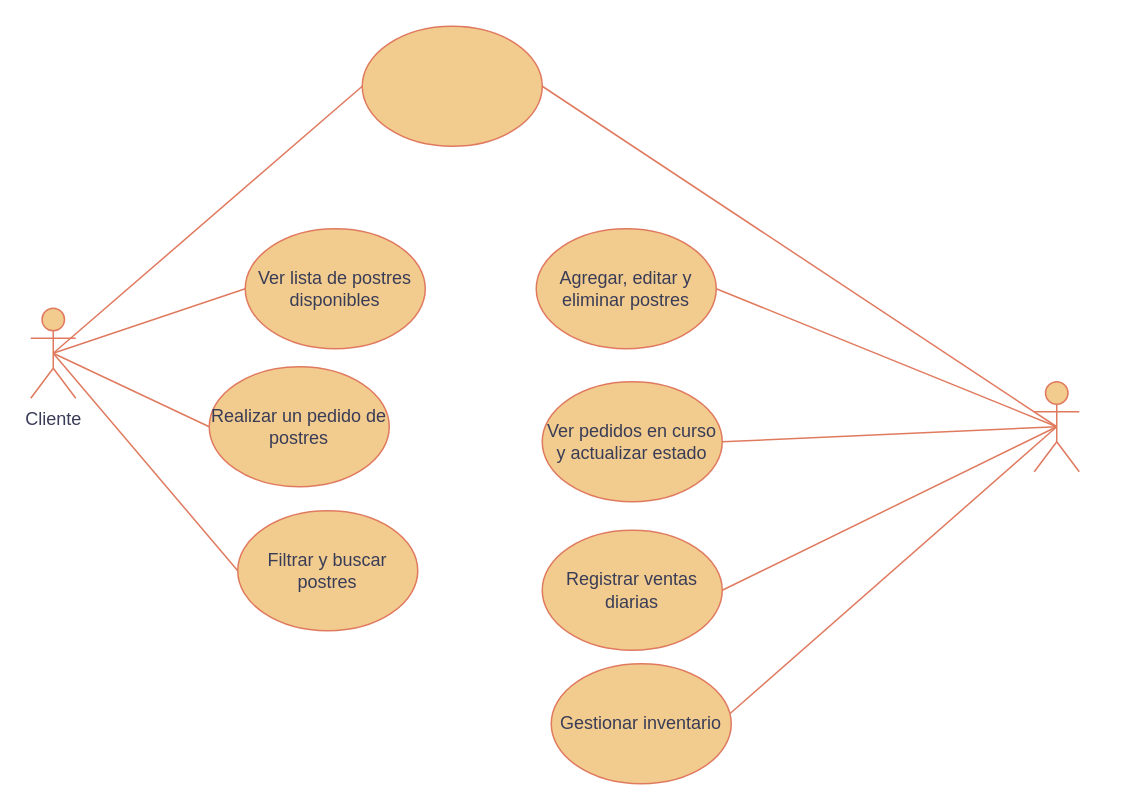
Some shapes in this 1139 by 810 pixel diagram are drawn without their labels. The centre of each missing label's shape, as x and y in pixels:
"Administrador" belongs at (1056,426).
"Registrarse o iniciar sesión" belongs at (451,85).
